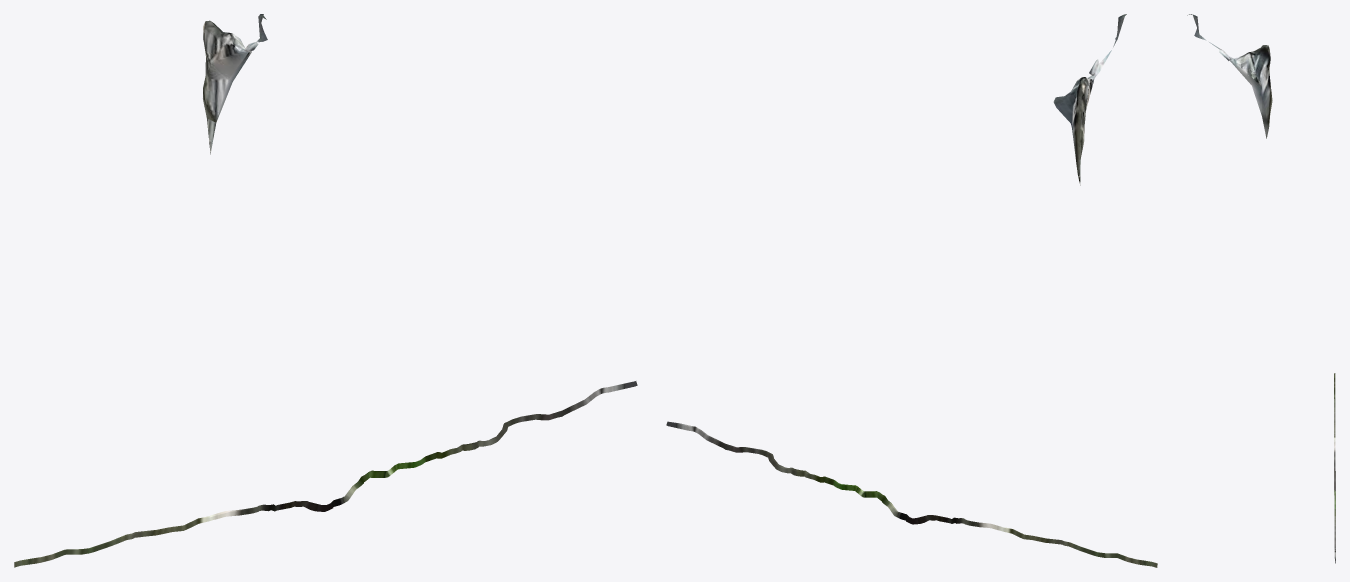
3 renders of one model, left to right at view 1: azimuth 30°, elevation 25°; view 2: azimuth 150°, elevation 25°; view 3: azimuth 270°, elevation 25°, orthographic. The views are drawn at different scales.
Visible parts, largest first — view 1: node_38; view 2: node_38; view 3: node_38.
Boxes of the visible parts, x1=… form: node_38: x1=14, y1=14, x2=637, y2=567; node_38: x1=666, y1=14, x2=1157, y2=567; node_38: x1=1187, y1=14, x2=1335, y2=563.
Size of the model in its own units: 8.92 by 8.38 by 2.67.
1 material, 1 textured.
